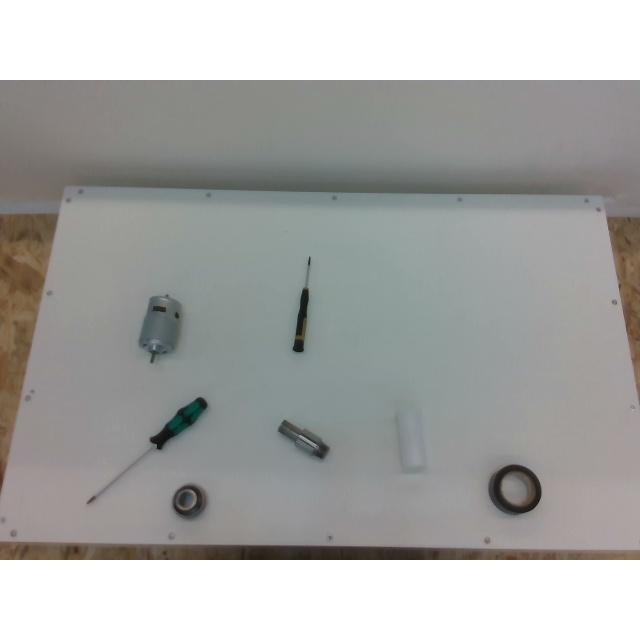Axis2: (278, 418, 329, 458)
Bearing2: (172, 484, 206, 516)
Motor2: (139, 294, 181, 362)
Screwdriver: (86, 397, 206, 503)
Spacer: (396, 408, 426, 472)
